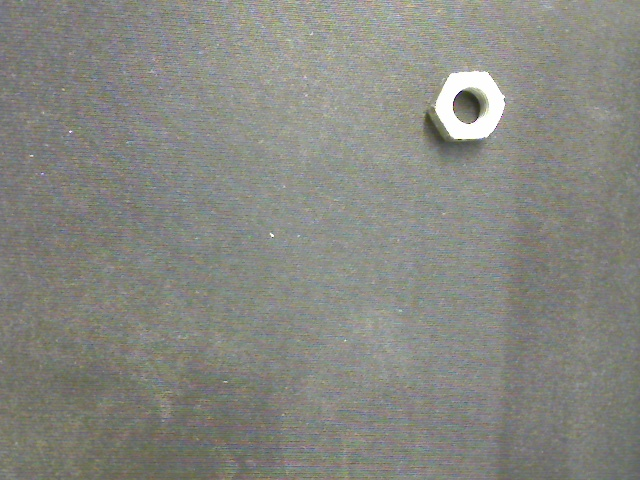Nut: (430, 72, 507, 141)
